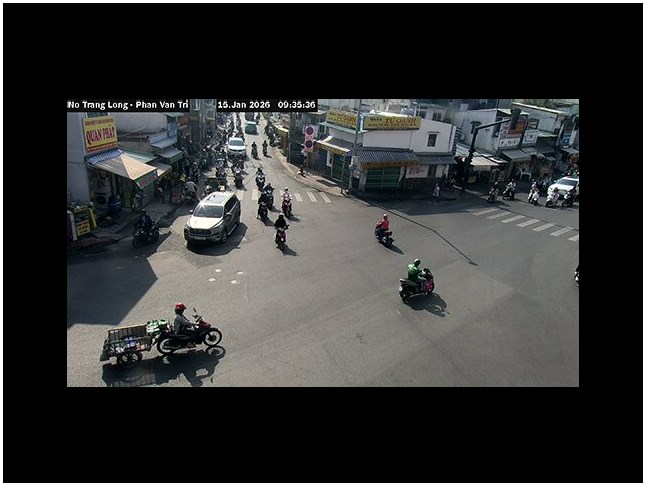car: (183, 190, 243, 245), (545, 176, 578, 208), (225, 136, 247, 170)
